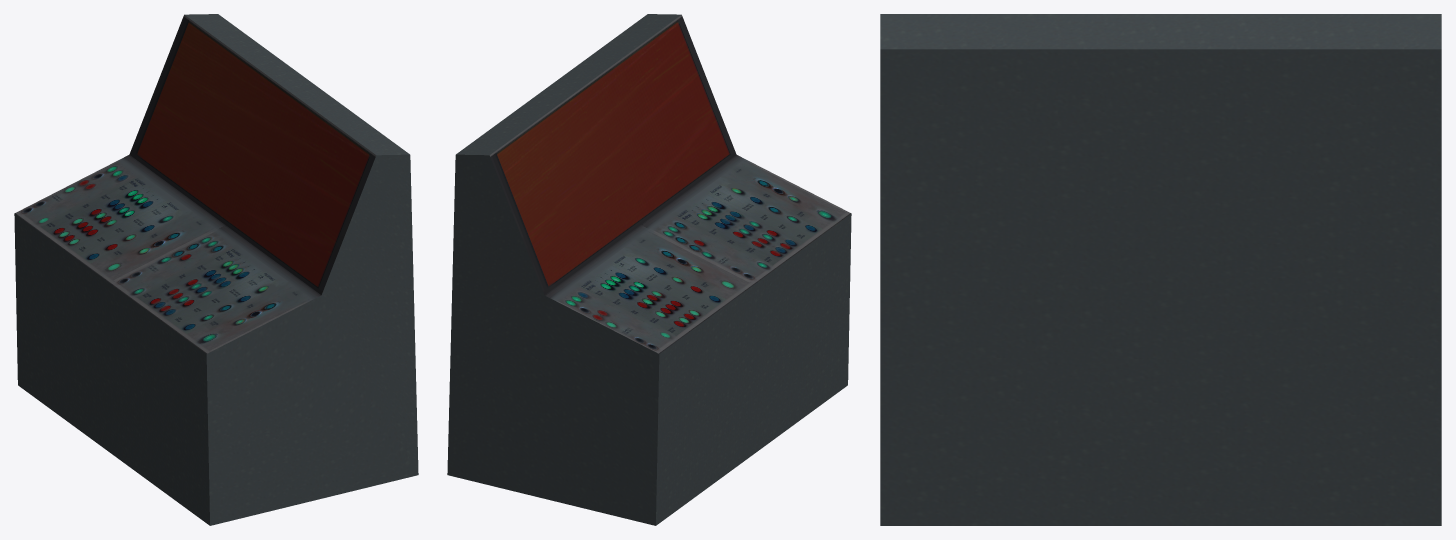
File: Computer_02.FBX
3 views of the same model, side by side, from view 1: azimuth 30°, elevation 25°; view 2: azimuth 150°, elevation 25°; view 3: azimuth 270°, elevation 25° (orthographic). The views are drawn at different scales.
Visible parts, largest first — view 1: Computer_02_mesh; view 2: Computer_02_mesh; view 3: Computer_02_mesh.
Part boxes in pixels (box(x1,y1,x2,y2)): Computer_02_mesh: box(14, 14, 418, 525); Computer_02_mesh: box(447, 14, 851, 525); Computer_02_mesh: box(880, 14, 1441, 525).
Bounding box in the file's own units: 87.27 × 130 × 137.
2 materials, 2 textured.
